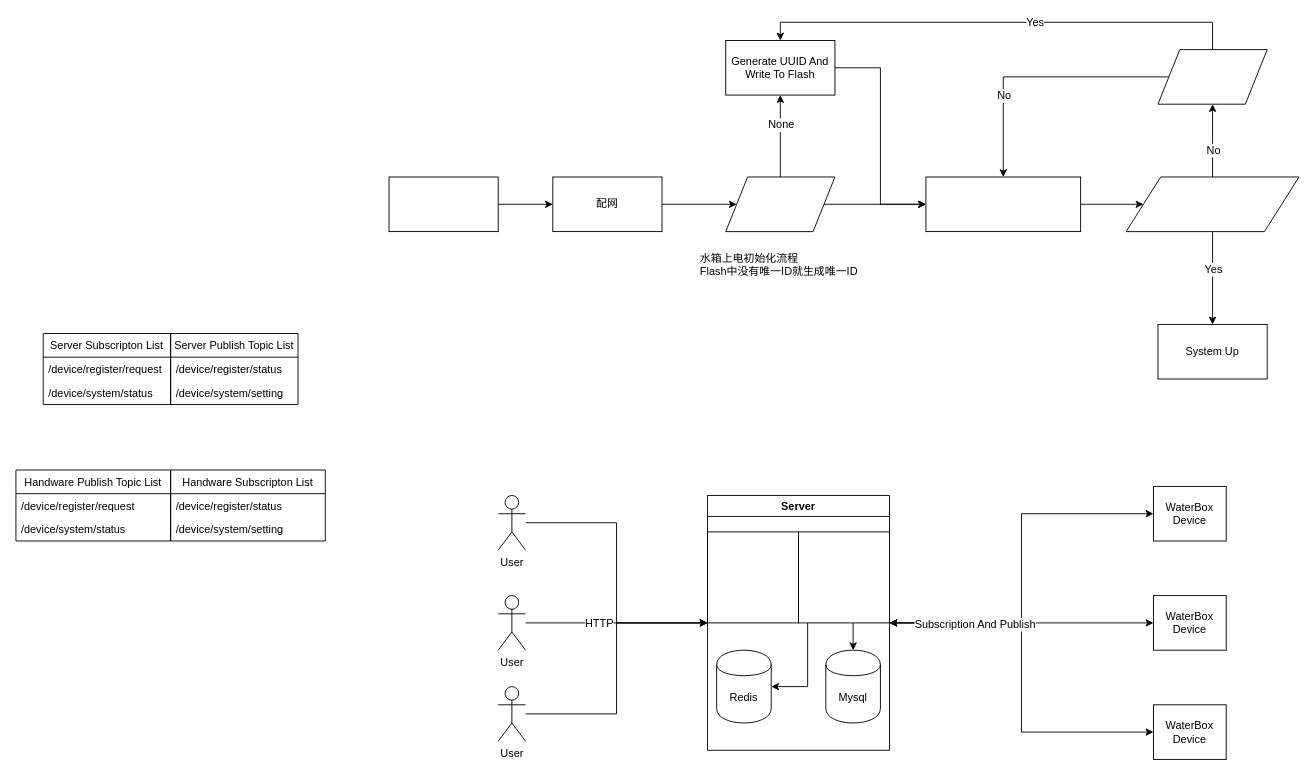
Some shapes in this 1315 by 776 pixel diagram are drawn without their labels. The centre of each missing label's shape, as x and y in pixels:
Have UUID ?: (780,204)
Mqtt Broker: (753,577)
Publish /device/register/request Register Device: (1003,204)
Qt Mqtt Client Drogon Server: (844,577)
Subscrpt /device/register/status Result Success ?: (1212,204)
UUID Error?: (1212,76)
Water Box Handware: (443,204)
